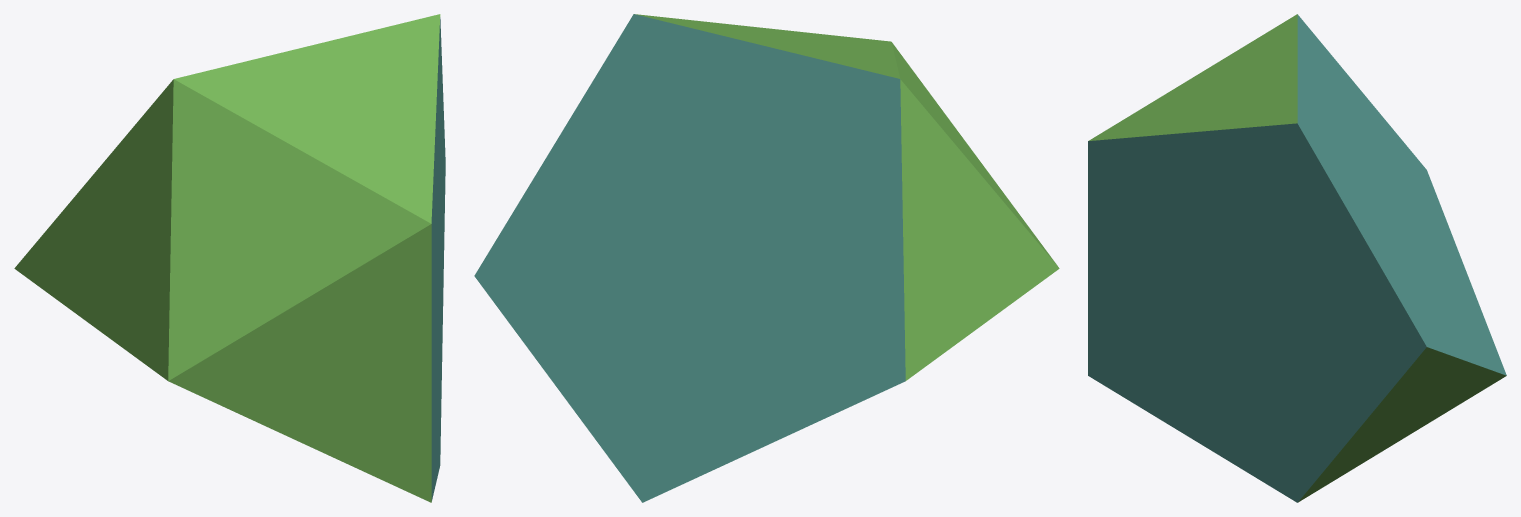
Rendered from J63.IcosaedroTridisminuido.gltf.
3 views of the same model, side by side, from view 1: azimuth 30°, elevation 25°; view 2: azimuth 150°, elevation 25°; view 3: azimuth 270°, elevation 25° (orthographic). The views are drawn at different scales.
Parts seen in each view (by area): view 1: J63.IcosaedroTridisminuido; view 2: J63.IcosaedroTridisminuido; view 3: J63.IcosaedroTridisminuido.
Boxes of the visible parts, x1,y1,x2,y2 form: J63.IcosaedroTridisminuido: (14, 14, 445, 502); J63.IcosaedroTridisminuido: (474, 14, 1059, 502); J63.IcosaedroTridisminuido: (1088, 14, 1506, 502).
Bounding box in the file's own units: 17.01 × 17.01 × 17.01.
